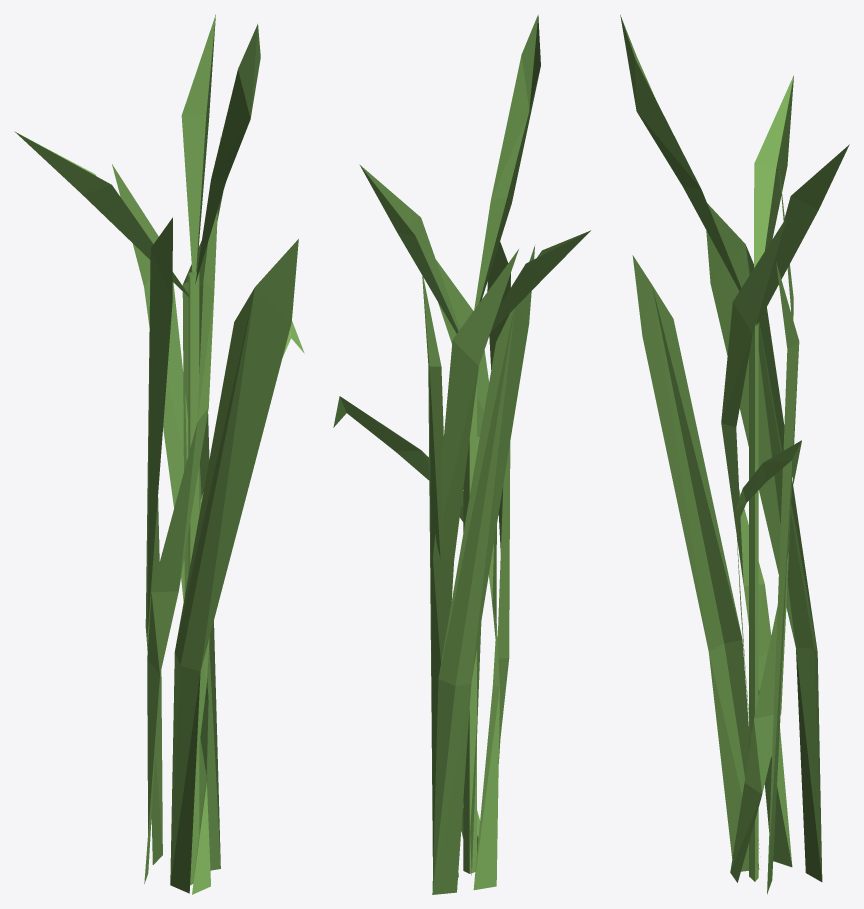
Rendered from Sugarcane_3.fbx.
3 views of the same model, side by side, from view 1: azimuth 30°, elevation 25°; view 2: azimuth 150°, elevation 25°; view 3: azimuth 270°, elevation 25° (orthographic). The views are drawn at different scales.
Visible parts, largest first — view 1: Sugarcane_3; view 2: Sugarcane_3; view 3: Sugarcane_3.
Part boxes in pixels (box(x1,y1,x2,y2)): Sugarcane_3: box(14, 14, 304, 894); Sugarcane_3: box(333, 14, 590, 894); Sugarcane_3: box(620, 15, 849, 894).
Size of the model in its own units: 46.47 by 140 by 33.69.
